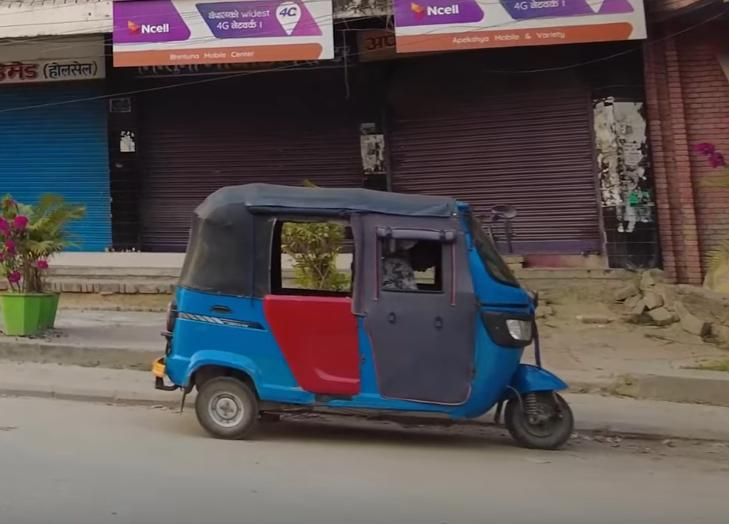auto_rickshaw: (146, 178, 587, 459)
